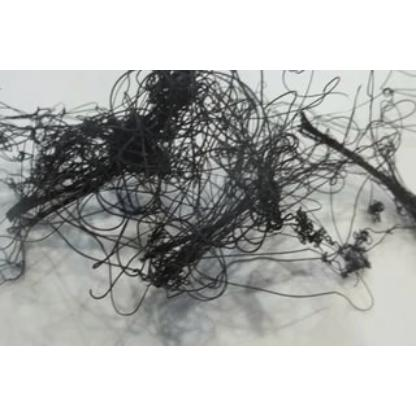fail: (1, 68, 388, 314)
